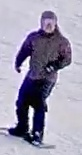snowboarder: (0, 11, 72, 150)
